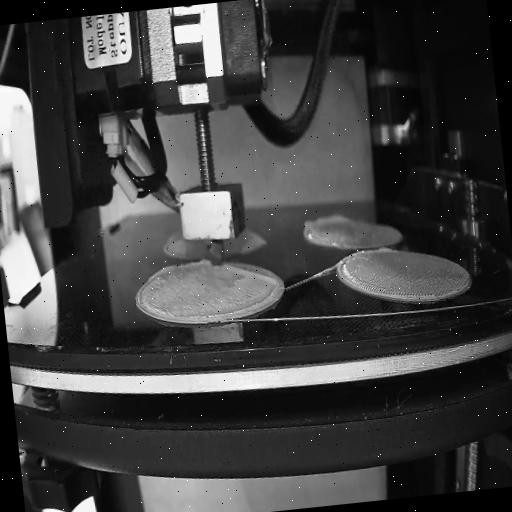over_extrusion: (220, 256, 278, 294), (298, 213, 350, 239), (145, 264, 176, 283), (162, 240, 182, 260), (376, 245, 396, 255)
